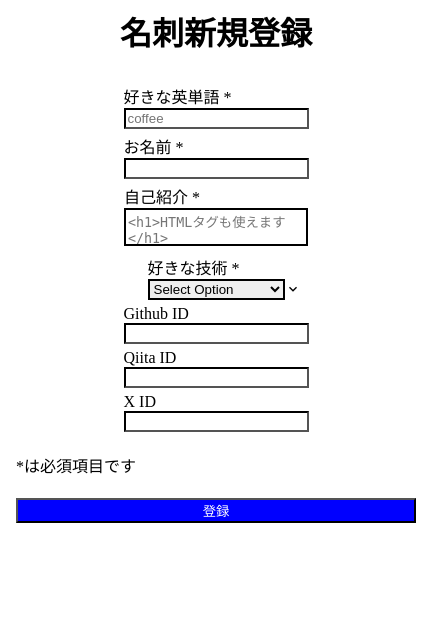
Test: 名刺登録ページの機能テスト › エラーメッセージの確認 › IDがないときにエラーメッセージがでる
Click the button with test id "submit" at (216, 510), box [16,498,416,523]
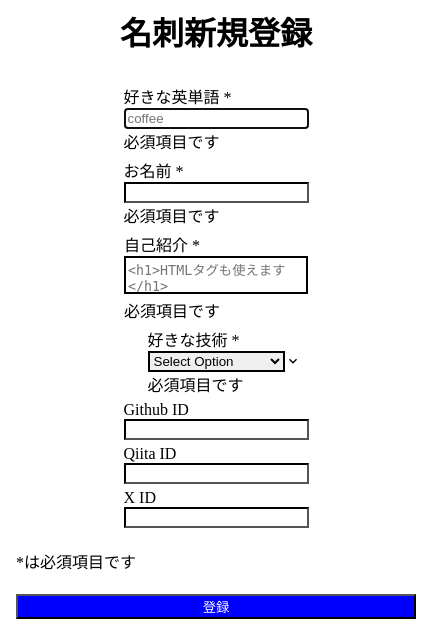
Expected: the text with test id "id-err" reads "必須項目です", [124,134,220,151]
